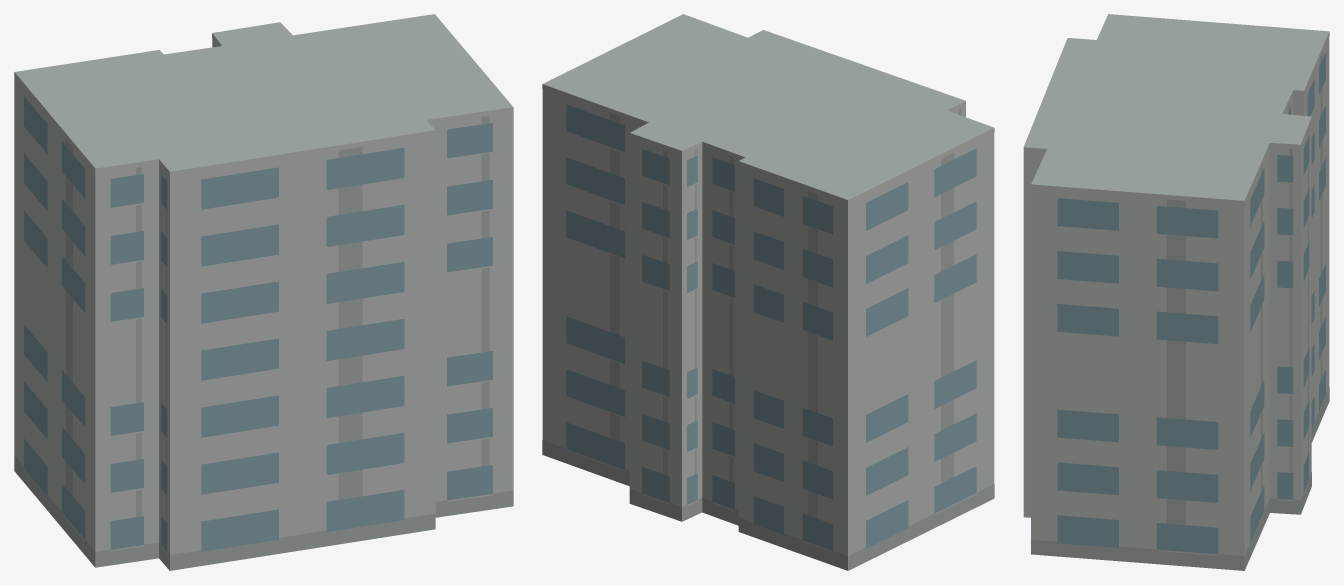
The model's file is survey-upis-32706200.glb.
3 views of the same model, side by side, from view 1: azimuth 30°, elevation 25°; view 2: azimuth 150°, elevation 25°; view 3: azimuth 270°, elevation 25° (orthographic). The views are drawn at different scales.
Parts seen in each view (by area): view 1: survey-upis-32706200.tmp; view 2: survey-upis-32706200.tmp; view 3: survey-upis-32706200.tmp.
Part boxes in pixels (bbox=[...]): survey-upis-32706200.tmp: bbox=[14, 14, 513, 570]; survey-upis-32706200.tmp: bbox=[542, 14, 994, 570]; survey-upis-32706200.tmp: bbox=[1023, 14, 1329, 570].
Bounding box in the file's own units: 20.75 × 19.15 × 14.36.
